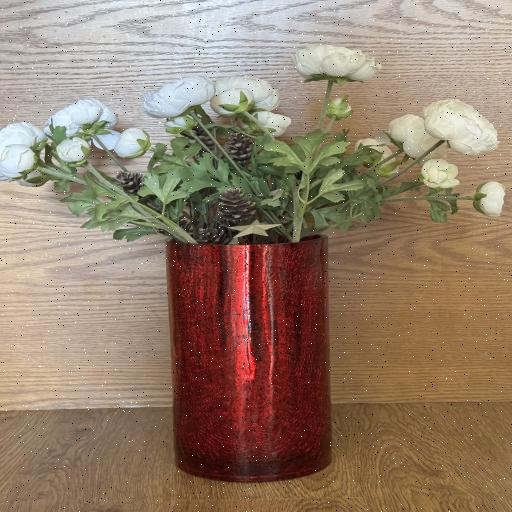Plant Pot: (164, 216, 332, 484)
